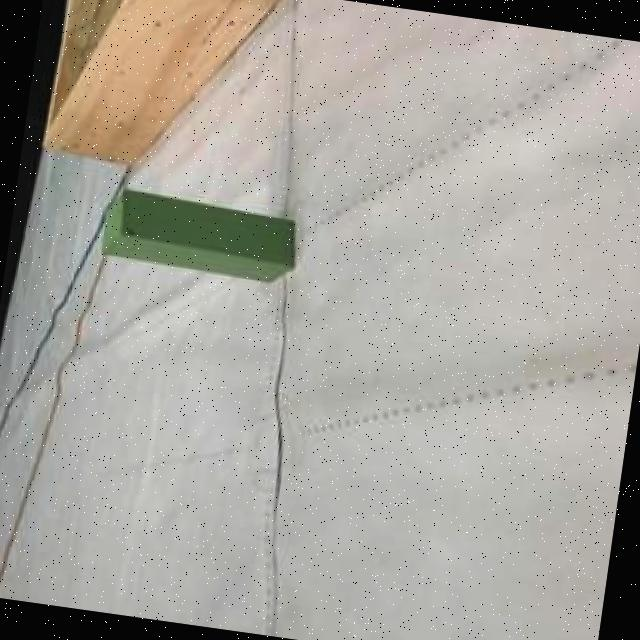greenbox: (96, 186, 301, 285)
